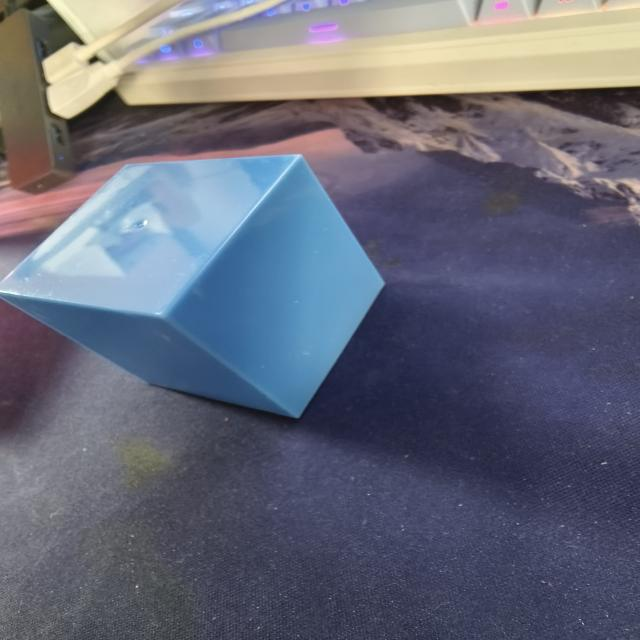blue: (1, 151, 404, 425)
